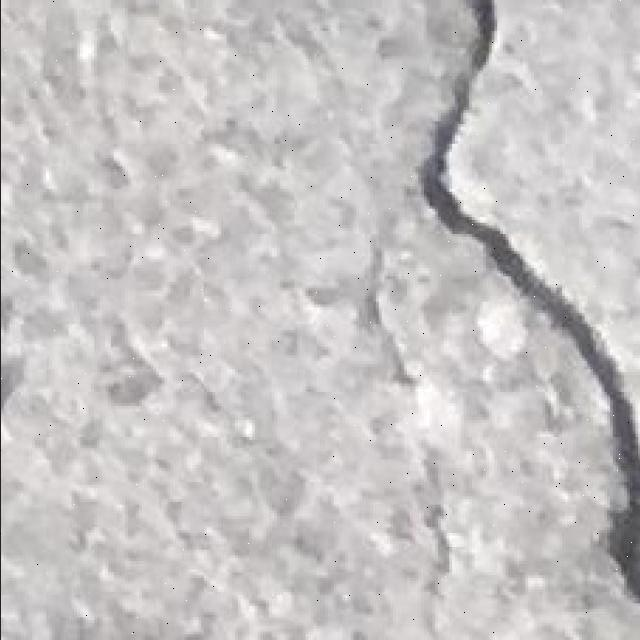crack: (417, 1, 638, 601), (6, 161, 156, 457), (414, 5, 504, 220)
